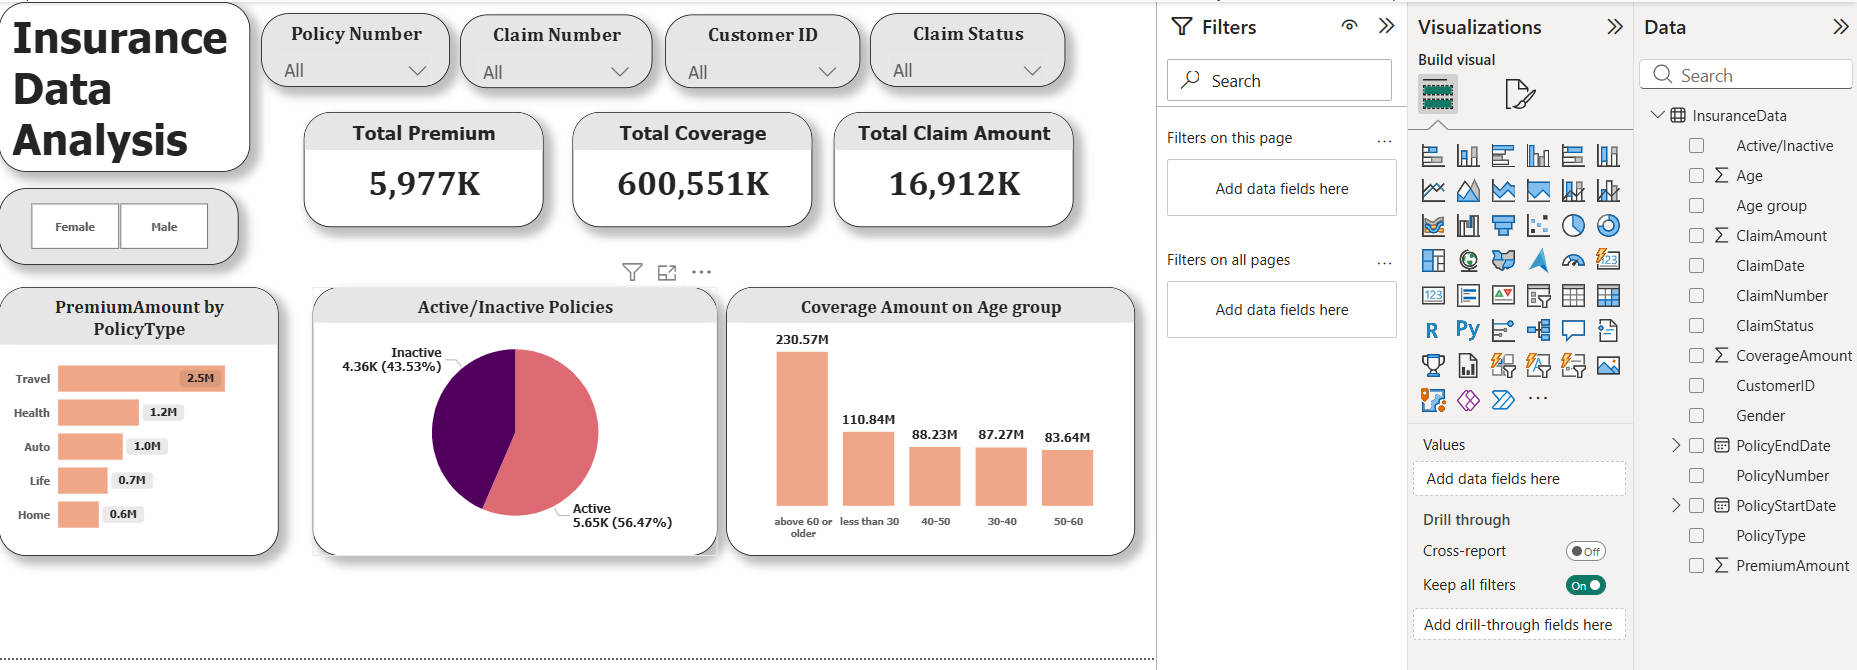

The page's visual inventory and layout, read from the dashboard file:
{"tool":"powerbi","page":{"name":"Page 1","canvas":[1280,720],"ordinal":0},"visuals":[{"type":"textbox","title":"Insurance Data Analysis","box":[9.6,0,275.8,186.6],"z":0},{"type":"slicer","title":"Policy Number","fields":{"Values":["InsuranceData.PolicyNumber"]},"box":[297.8,12.3,207.2,81],"z":1000},{"type":"slicer","title":"Claim  Number","fields":{"Values":["InsuranceData.ClaimNumber"]},"box":[516,13.7,211.3,81],"z":2000},{"type":"slicer","title":"Customer ID","fields":{"Values":["InsuranceData.CustomerID"]},"box":[741,13.7,214.1,81],"z":3000},{"type":"slicer","title":"Claim Status","fields":{"Values":["InsuranceData.ClaimStatus"]},"box":[966,12.3,214.1,81],"z":4000},{"type":"slicer","fields":{"Values":["InsuranceData.Gender"]},"box":[9.6,204.5,263.5,83.7],"z":5000},{"type":"card","title":"Total Premium","fields":{"Values":["Sum(InsuranceData.PremiumAmount)"]},"box":[344.4,120.8,263.5,126.2],"z":6000},{"type":"card","title":"Total Coverage","fields":{"Values":["Sum(InsuranceData.CoverageAmount)"]},"box":[639.5,120.8,263.5,126.2],"z":7000},{"type":"card","title":"Total Claim Amount","fields":{"Values":["Sum(InsuranceData.ClaimAmount)"]},"box":[926.2,120.8,263.5,126.2],"z":8000},{"type":"barChart","title":"PremiumAmount by PolicyType","fields":{"Category":["InsuranceData.PolicyType"],"Y":["Sum(InsuranceData.PremiumAmount)"]},"box":[9.6,312.9,307.4,295],"z":9000},{"type":"pieChart","title":"Active/Inactive  Policies","fields":{"Category":["InsuranceData.Active/Inactive "],"Y":["CountNonNull(InsuranceData.Active/Inactive )"]},"box":[354,312.9,444.6,295],"z":10000},{"type":"columnChart","title":"Coverage Amount by Age group","fields":{"Category":["InsuranceData.Age group"],"Y":["Sum(InsuranceData.CoverageAmount)"]},"box":[808.2,312.9,448.7,295],"z":11000}]}

Visuals, with their boxes on the page's 1280x720 design canvas (x1, y1, x2, y2). These are canvas units, not pixel positions in the 1857x670 screenshot, which may show the page scaled, cropped or inside an application window:
"Insurance Data Analysis" textbox: x1=10, y1=0, x2=285, y2=187
"Policy Number" slicer: x1=298, y1=12, x2=505, y2=93
"Claim  Number" slicer: x1=516, y1=14, x2=727, y2=95
"Customer ID" slicer: x1=741, y1=14, x2=955, y2=95
"Claim Status" slicer: x1=966, y1=12, x2=1180, y2=93
slicer - InsuranceData.Gender: x1=10, y1=204, x2=273, y2=288
"Total Premium" card: x1=344, y1=121, x2=608, y2=247
"Total Coverage" card: x1=640, y1=121, x2=903, y2=247
"Total Claim Amount" card: x1=926, y1=121, x2=1190, y2=247
"PremiumAmount by PolicyType" barChart: x1=10, y1=313, x2=317, y2=608
"Active/Inactive  Policies" pieChart: x1=354, y1=313, x2=799, y2=608
"Coverage Amount by Age group" columnChart: x1=808, y1=313, x2=1257, y2=608
